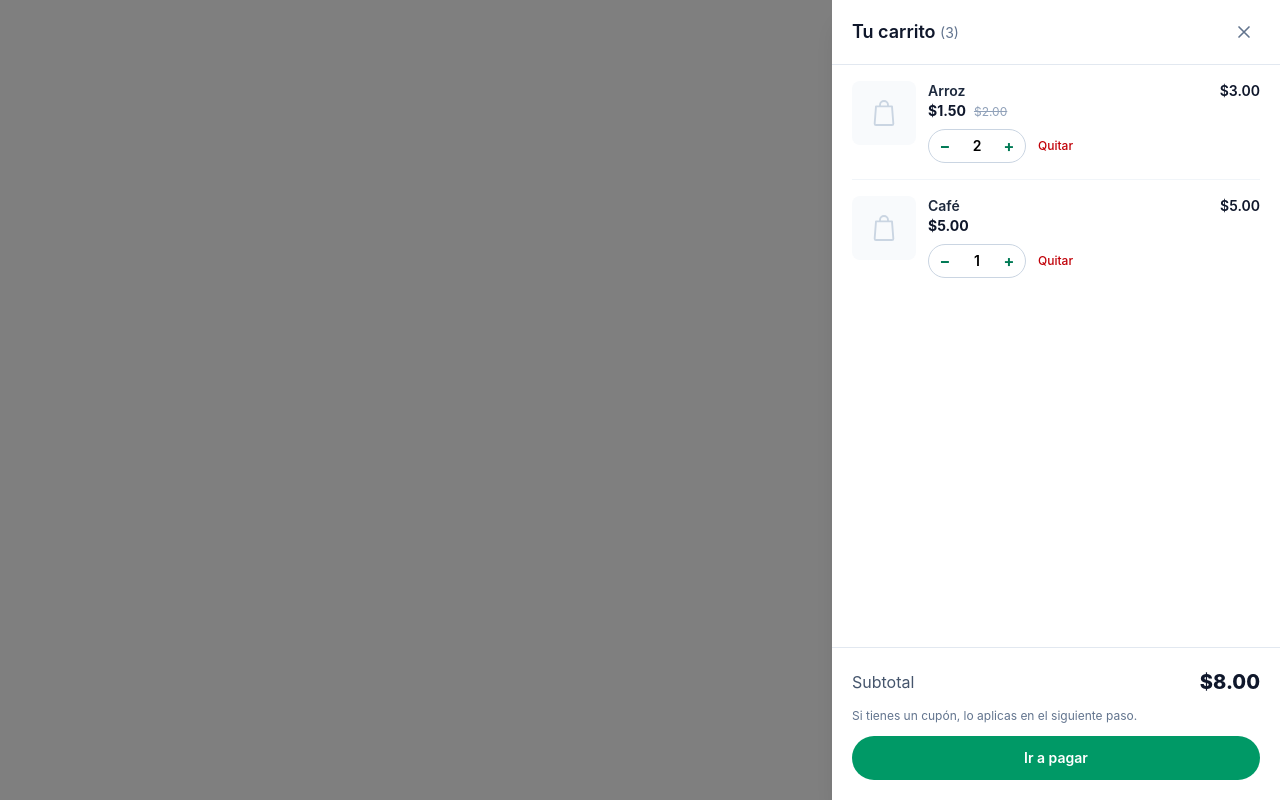
Scenario: CarritoPanel › cambia cantidades sin pasar del stock y quita productos
This screenshot has width=1280, height=800.
Click the button named "Agregar una unidad de Arroz" at (1009, 146), box x1=993 y1=130 x2=1025 y2=162
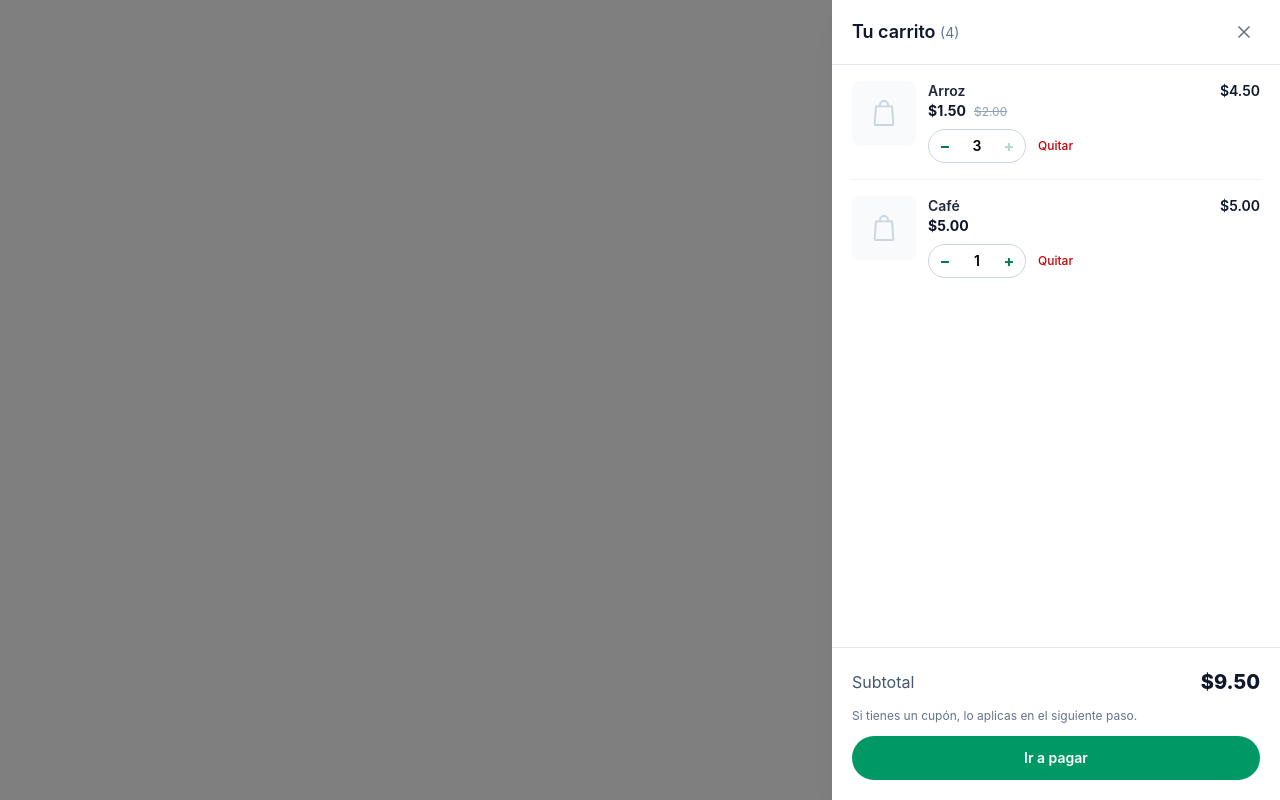
Click the button "Quitar" below "Café" at (1056, 261), box x1=1038 y1=253 x2=1073 y2=269
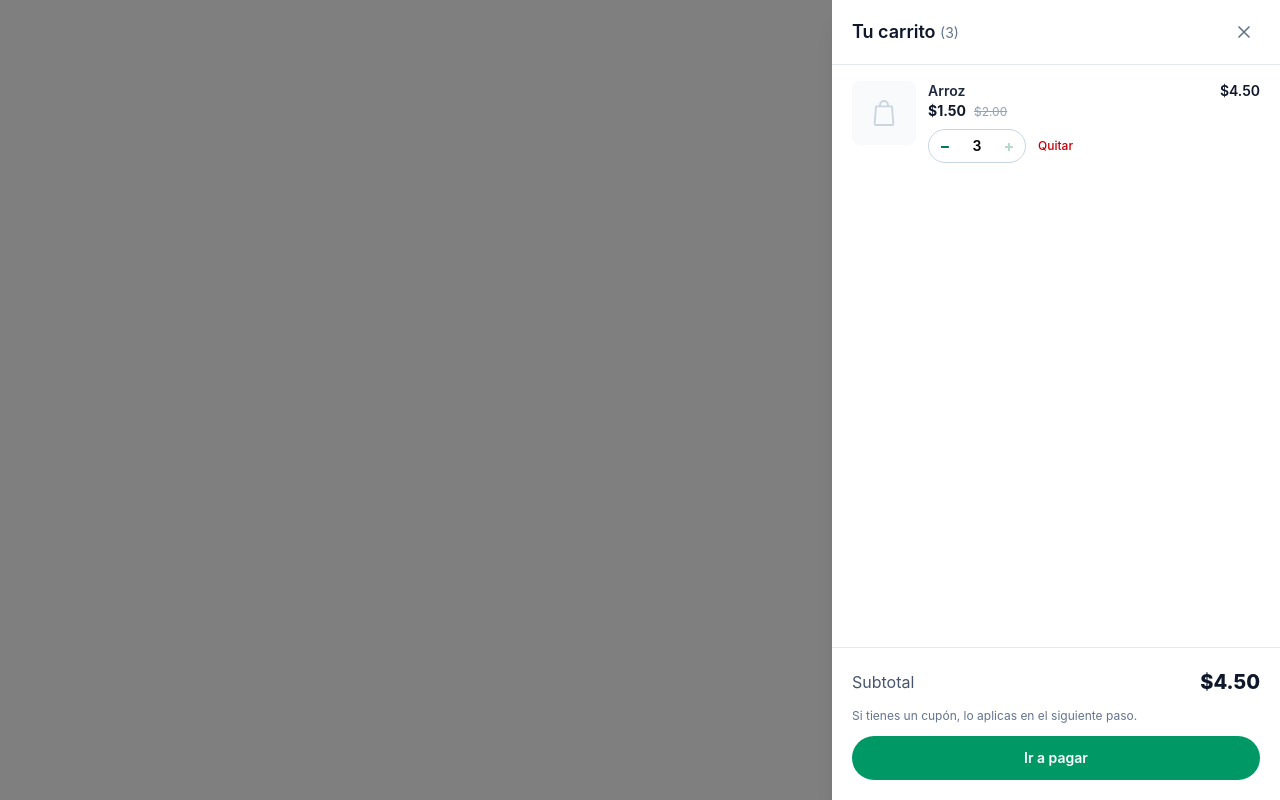
Expected: the text "Café" is gone
